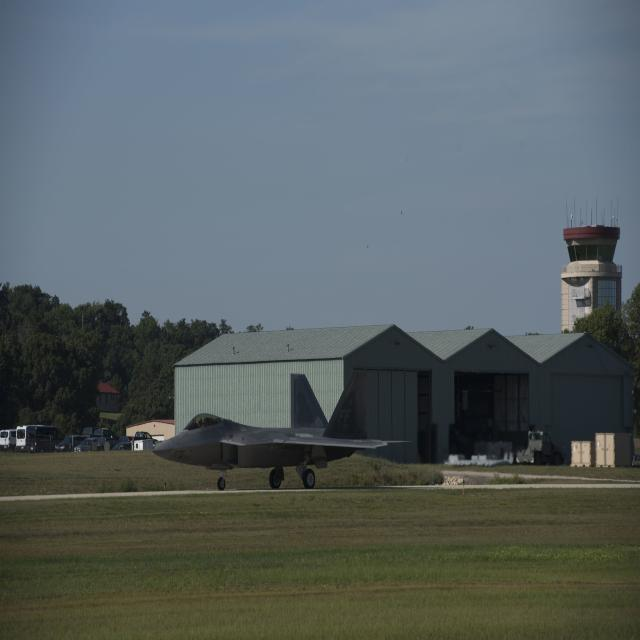MIL_Plane: (151, 370, 413, 490)
